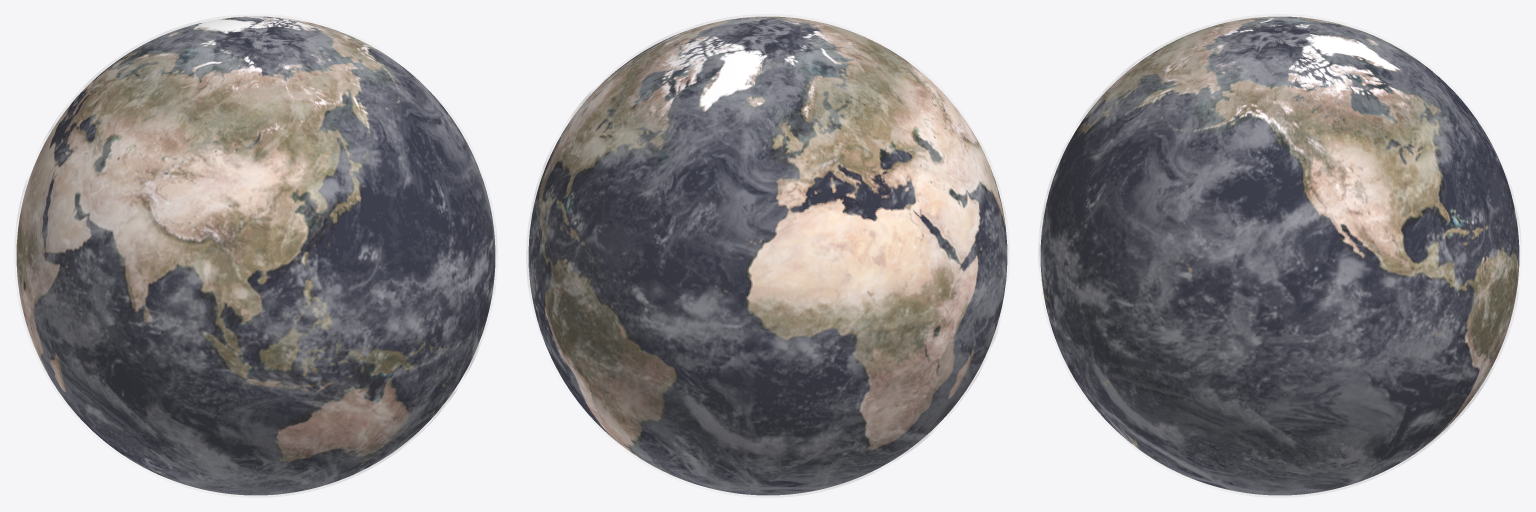
Rendered from planet_earth.glb.
3 renders of one model, left to right at view 1: azimuth 30°, elevation 25°; view 2: azimuth 150°, elevation 25°; view 3: azimuth 270°, elevation 25°, orthographic.
Visible parts, largest first — view 1: Earth_Diffuse_6K, Earth_Diffuse_6K.001; view 2: Earth_Diffuse_6K, Earth_Diffuse_6K.001; view 3: Earth_Diffuse_6K, Earth_Diffuse_6K.001.
Boxes of the visible parts, x1,y1,x2,y2 form: Earth_Diffuse_6K: (16, 16, 495, 495); Earth_Diffuse_6K.001: (14, 14, 497, 497); Earth_Diffuse_6K: (528, 16, 1007, 495); Earth_Diffuse_6K.001: (526, 14, 1009, 497); Earth_Diffuse_6K: (1040, 16, 1519, 495); Earth_Diffuse_6K.001: (1038, 14, 1521, 497).
Size of the model in its own units: 275 by 275 by 275.
2 materials, 2 textured.
